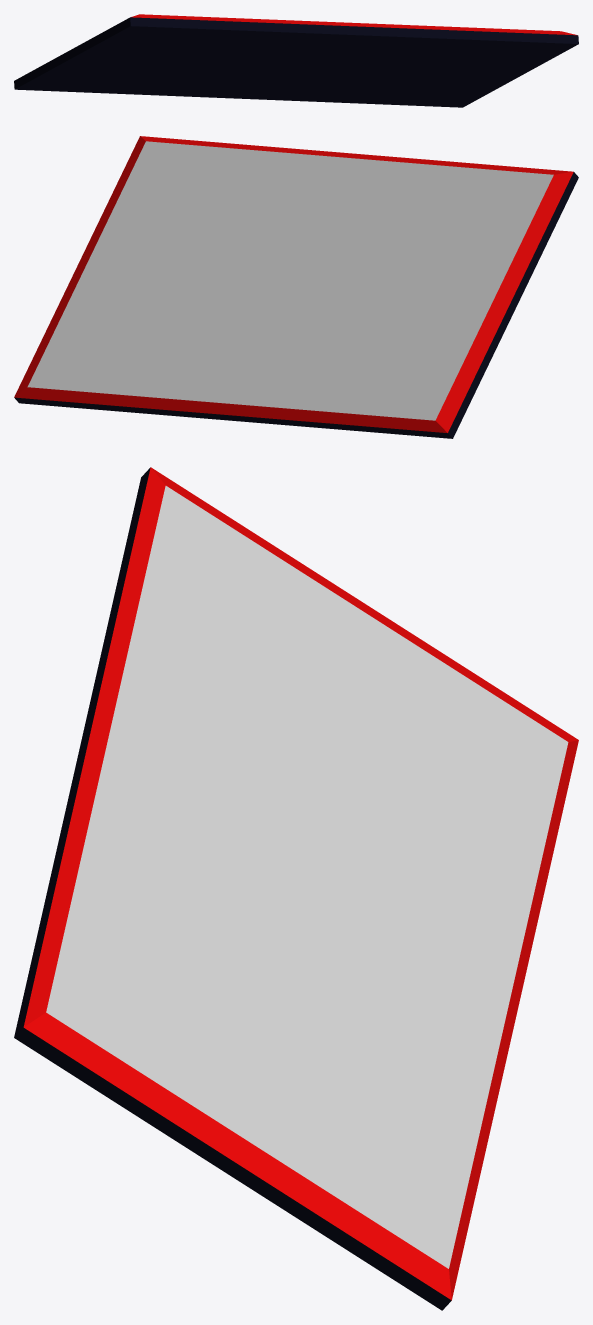
The model's file is b1_body.obj.
3 views of the same model, one above another, from view 1: azimuth 30°, elevation 25°; view 2: azimuth 150°, elevation 25°; view 3: azimuth 270°, elevation 25° (orthographic). The views are drawn at different scales.
Visible parts, largest first — view 1: b1; view 2: b1; view 3: b1.
Part boxes in pixels (x1,y1,x2,y2): b1: (14, 14, 578, 107); b1: (14, 136, 578, 438); b1: (14, 467, 578, 1310).
Bounding box in the file's own units: 0.0541 × 0.0305 × 0.0335.
